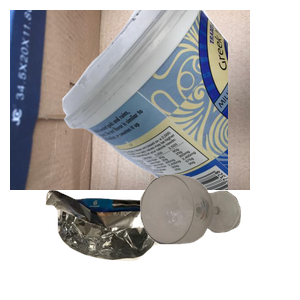cardboard: (10, 10, 250, 190)
glass: (138, 172, 300, 300)
plastic: (60, 10, 300, 190)
trash: (43, 187, 234, 300)
